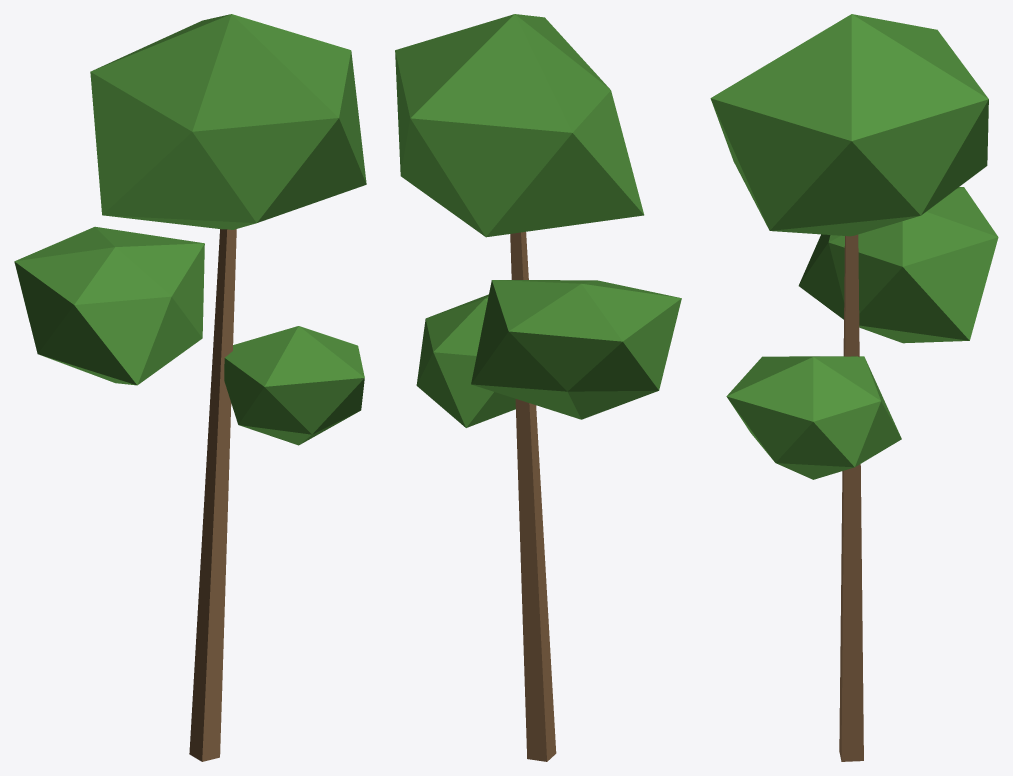
File: pousse_feuillu.glb
The picture shows the model from 3 angles, left to right: view 1: azimuth 30°, elevation 25°; view 2: azimuth 150°, elevation 25°; view 3: azimuth 270°, elevation 25°; orthographic projection. The views are drawn at different scales.
Parts seen in each view (by area): view 1: pousse_feuillu; view 2: pousse_feuillu; view 3: pousse_feuillu.
Part boxes in pixels (x1,y1,x2,y2): pousse_feuillu: (14, 14, 366, 761); pousse_feuillu: (395, 14, 681, 761); pousse_feuillu: (710, 14, 998, 761).
Size of the model in its own units: 0.5364 by 1.31 by 0.4508.
Materials: 1 (1 with a texture image).
